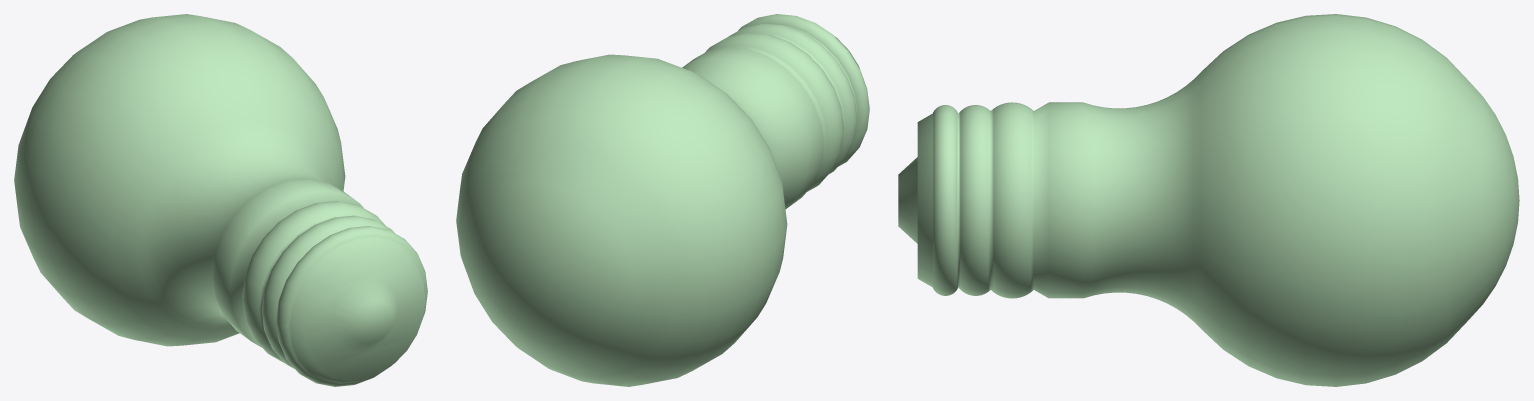
Rendered from lightbulb1_0.dae.
The picture shows the model from 3 angles, left to right: view 1: azimuth 30°, elevation 25°; view 2: azimuth 150°, elevation 25°; view 3: azimuth 270°, elevation 25°; orthographic projection. The views are drawn at different scales.
Visible parts, largest first — view 1: lightbulb1_019; view 2: lightbulb1_019; view 3: lightbulb1_019.
Part boxes in pixels (bbox=[...]): lightbulb1_019: bbox=[14, 14, 427, 386]; lightbulb1_019: bbox=[456, 14, 869, 386]; lightbulb1_019: bbox=[898, 14, 1519, 386].
Size of the model in its own units: 0.1122 by 0.1862 by 0.1122.
